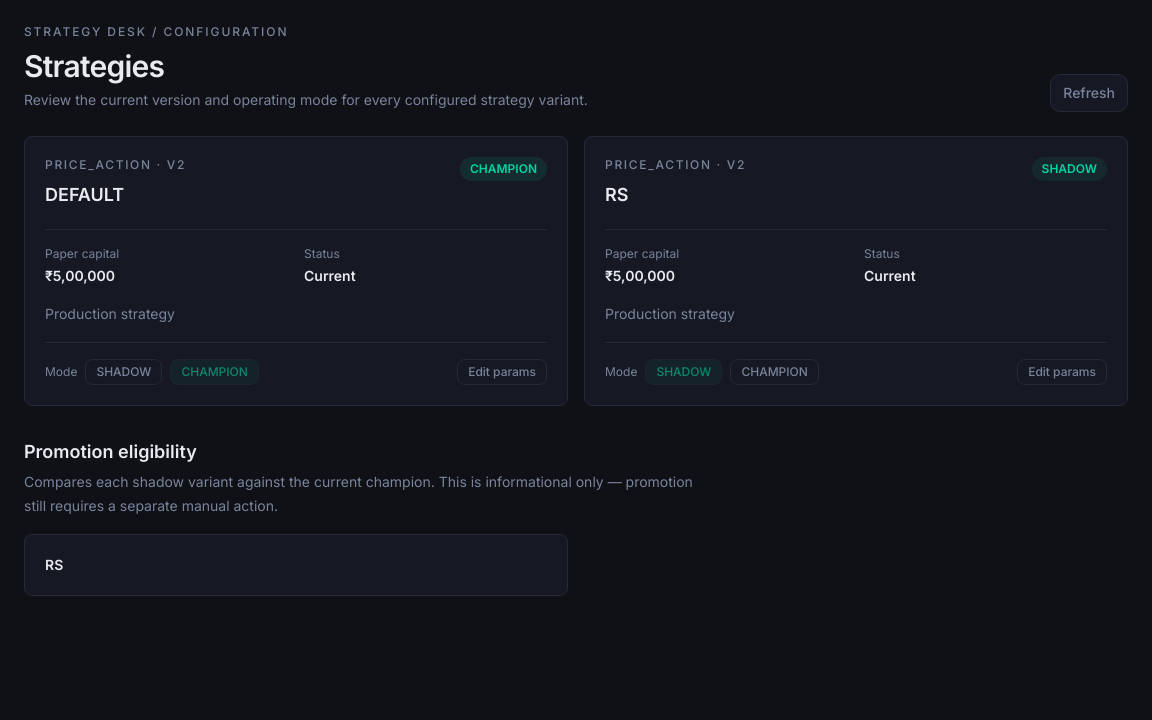
Scenario: StrategiesView — mode, champion guard and params editor › shows a mode-change failure as an alert
Click the button with test id "mode-DEFAULT-SHADOW" at x=124, y=372, box [85,359,162,385]
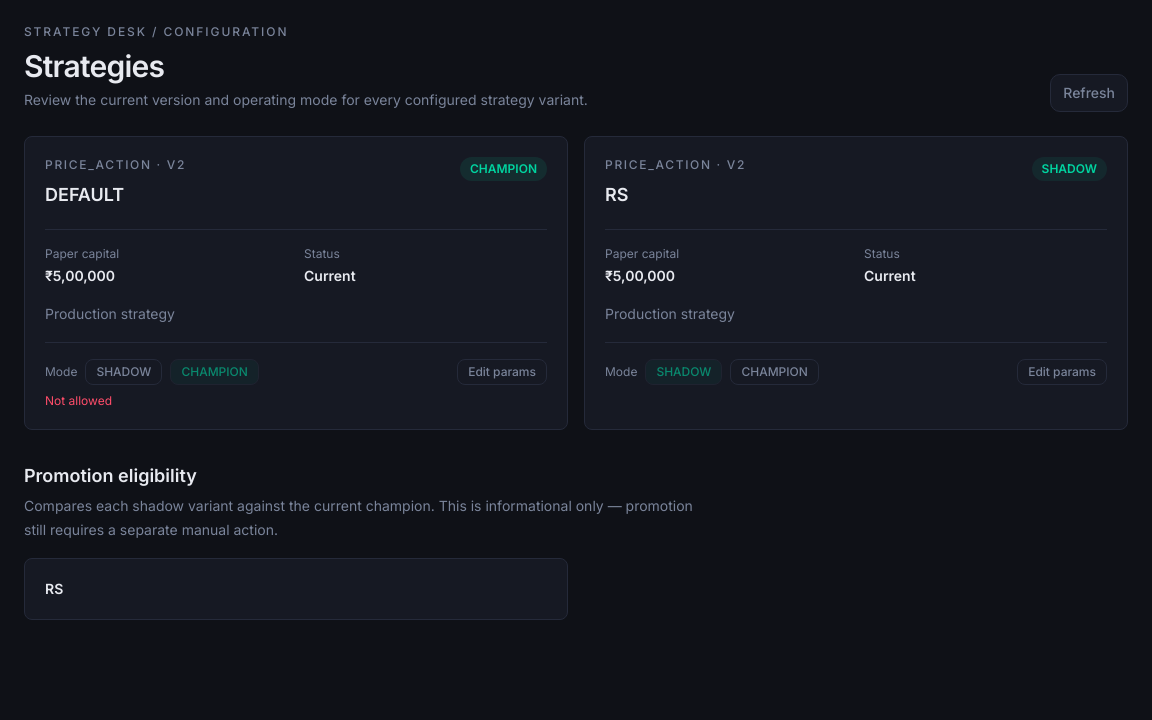
Now the message with test id "mode-error-DEFAULT" reads "Not allowed", box [45,393,112,408]
